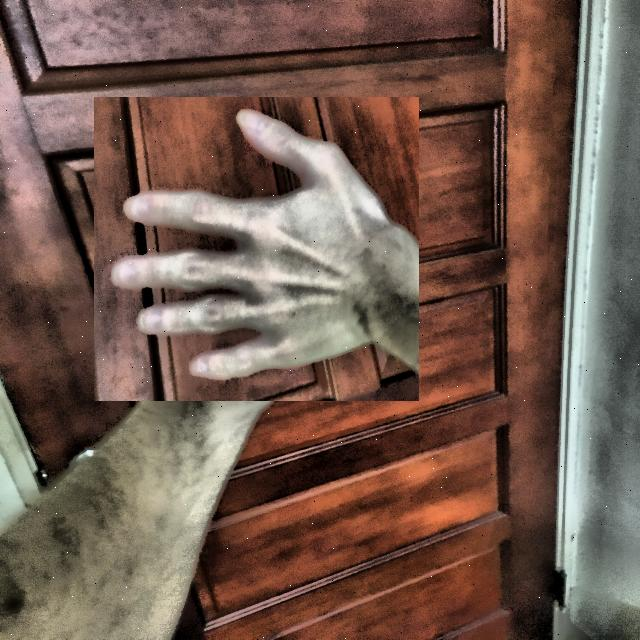not-gloved: (99, 91, 414, 406)
